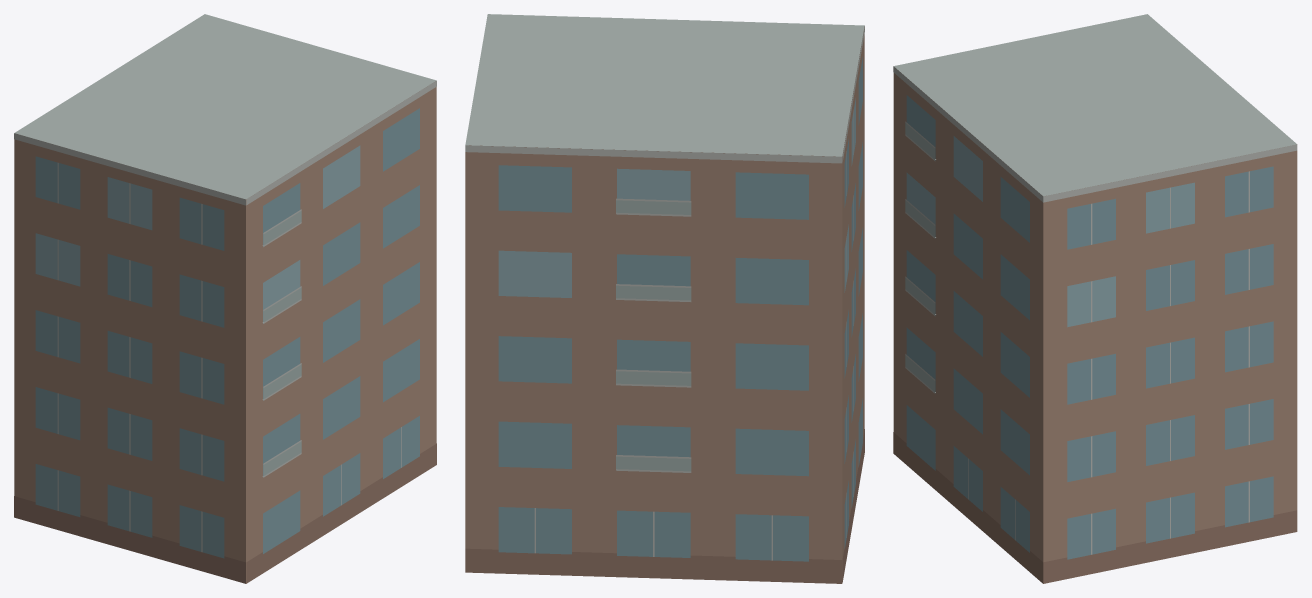
Rendered from residential-7cec6f66-e897-4d9c-ba1a-7bcd755c5782.glb.
3 renders of one model, left to right at view 1: azimuth 30°, elevation 25°; view 2: azimuth 150°, elevation 25°; view 3: azimuth 270°, elevation 25°, orthographic. The views are drawn at different scales.
Parts seen in each view (by area): view 1: residential-7cec6f66-e897-4d9c-ba1a-7bcd755c5782.tmp; view 2: residential-7cec6f66-e897-4d9c-ba1a-7bcd755c5782.tmp; view 3: residential-7cec6f66-e897-4d9c-ba1a-7bcd755c5782.tmp.
Part boxes in pixels (bbox=[...]): residential-7cec6f66-e897-4d9c-ba1a-7bcd755c5782.tmp: bbox=[14, 14, 436, 583]; residential-7cec6f66-e897-4d9c-ba1a-7bcd755c5782.tmp: bbox=[465, 14, 864, 583]; residential-7cec6f66-e897-4d9c-ba1a-7bcd755c5782.tmp: bbox=[893, 14, 1297, 583].
Size of the model in its own units: 15.41 by 15.25 by 14.42.
